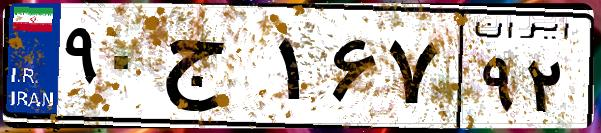0: (110, 28, 158, 98)
1: (270, 28, 330, 110)
2: (525, 38, 570, 115)
6: (330, 28, 385, 110)
7: (385, 28, 445, 110)
9: (57, 26, 110, 100), (475, 38, 525, 113)
ج: (158, 20, 270, 120)
